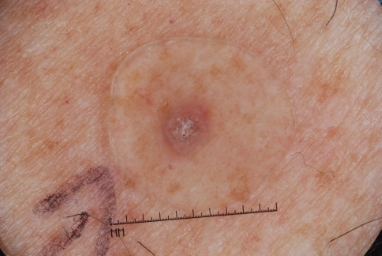seborrheic keratosis: (143, 82, 228, 172)
